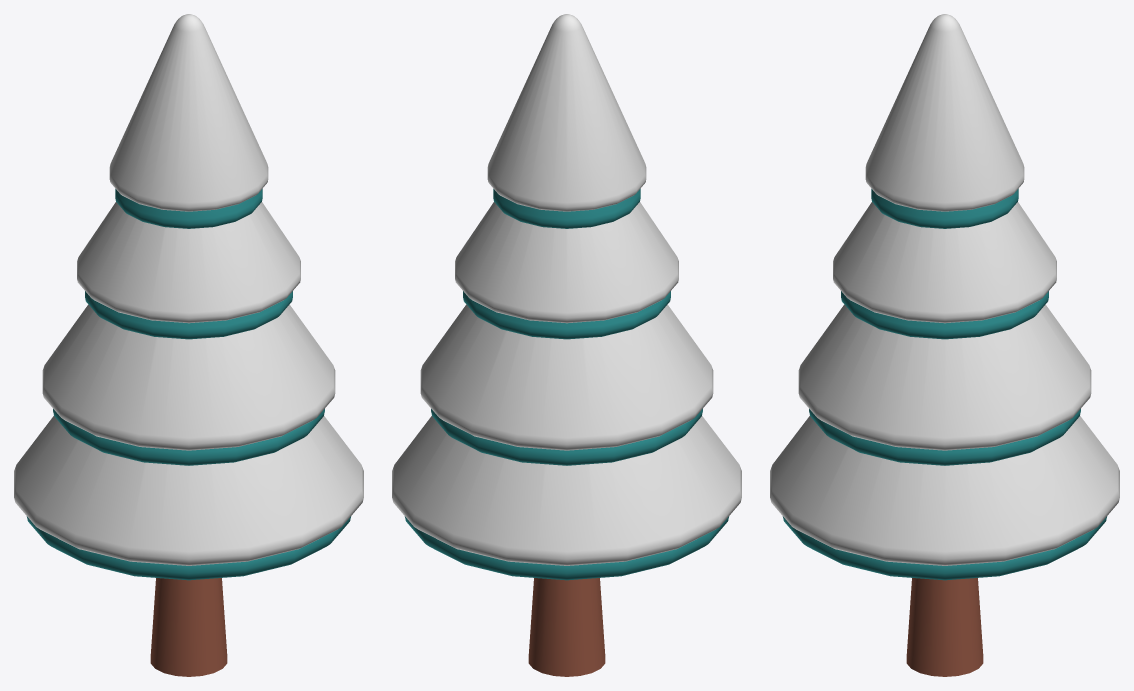
File: tree_snow_medium.gltf.glb
The picture shows the model from 3 angles, left to right: view 1: azimuth 30°, elevation 25°; view 2: azimuth 150°, elevation 25°; view 3: azimuth 270°, elevation 25°; orthographic projection.
Visible parts, largest first — view 1: tree_snow_medium; view 2: tree_snow_medium; view 3: tree_snow_medium.
Part boxes in pixels (<box>): tree_snow_medium: <box>14,14,363,676</box>; tree_snow_medium: <box>392,14,741,676</box>; tree_snow_medium: <box>770,14,1119,676</box>.
Bounding box in the file's own units: 2.08 × 4.16 × 2.04.
